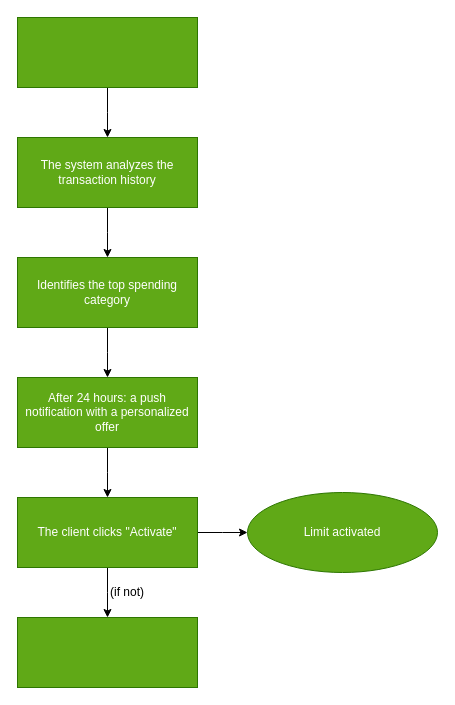
This 455x705 diagram has some shape labels left out. Each missing label, with the box of its shape:
After 7 days: a second reminder with a different offer: (16, 616, 198, 688)
The client receives approval;: (16, 16, 198, 88)
